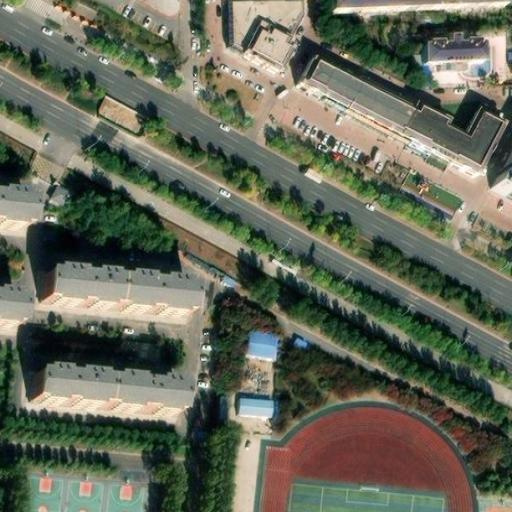building: (302, 57, 418, 132), (44, 271, 194, 318), (35, 372, 187, 418), (406, 103, 505, 169), (232, 1, 303, 68), (322, 0, 500, 11), (412, 39, 472, 66), (247, 330, 278, 359), (0, 193, 24, 230), (0, 293, 23, 329), (240, 397, 271, 417), (213, 389, 230, 422)
